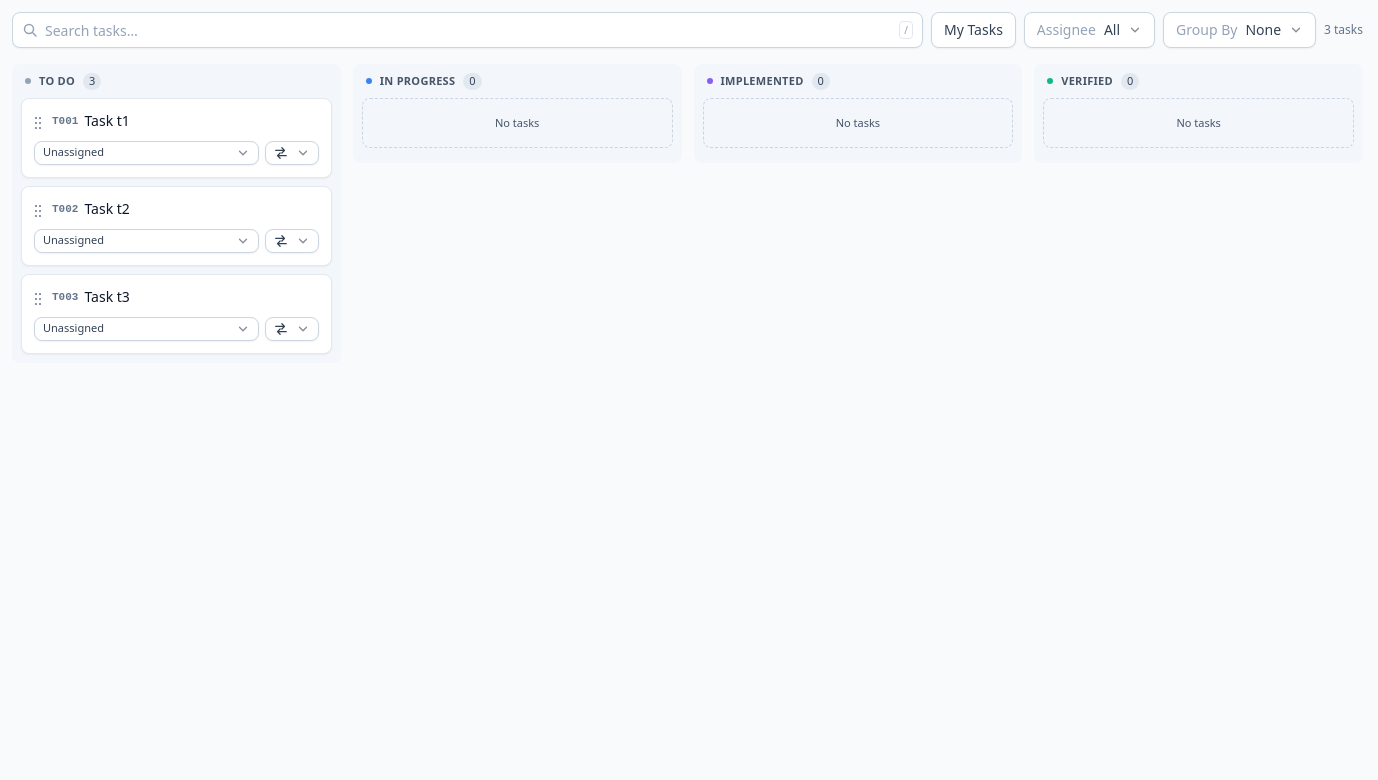
it: TaskBoard status › explains an unrecognised failure in plain words, code secondary
Check: the button "Task t1" is shown, box [84,110,319,130]
Click the dropdown named "Move T001 to another column" at (292, 152), box [265,140,319,164]
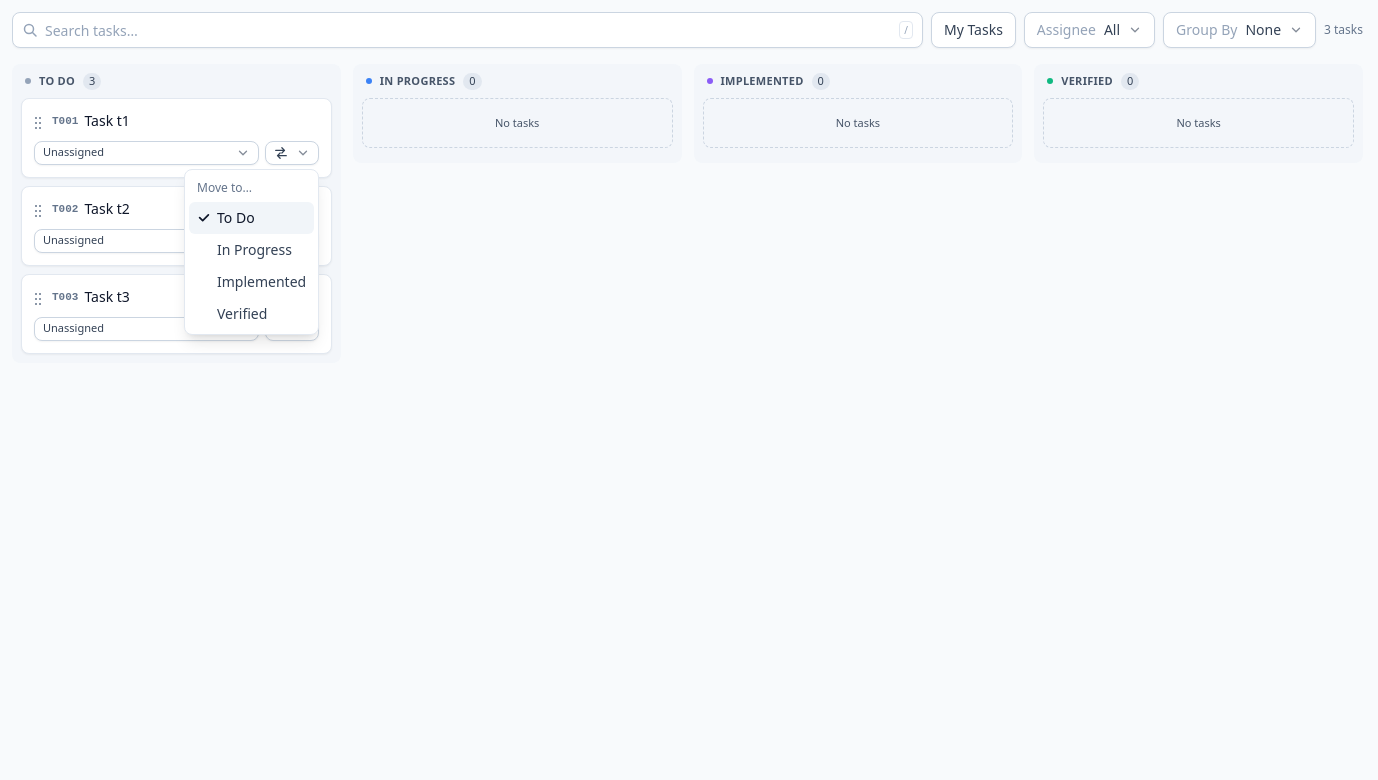
Click the option "In Progress" at (254, 250), box [217,240,292,259]
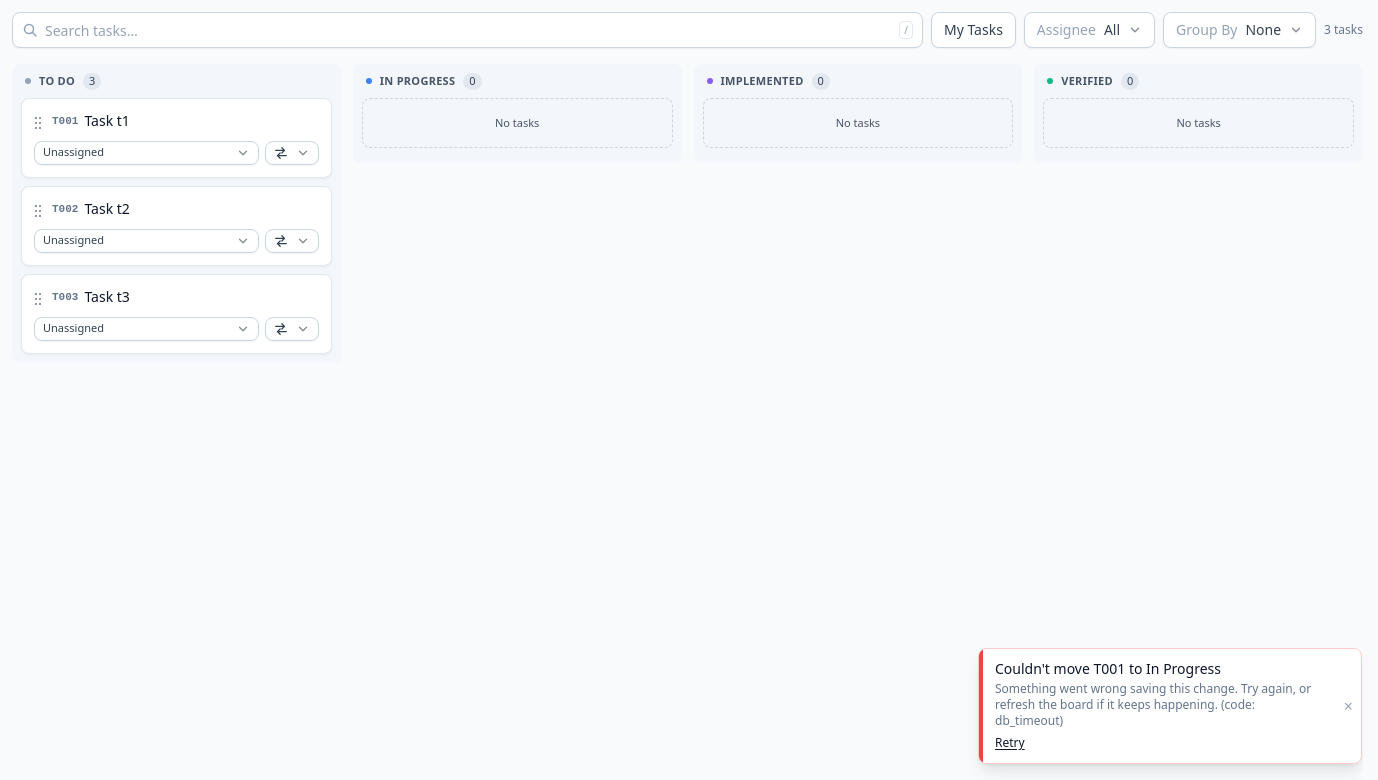
Check: the element named "Notifications" shows "Something went wrong saving this change.", box [995,680,1311,729]
Check: the element named "Notifications" shows "(code: db_timeout)", box [995,680,1311,729]
